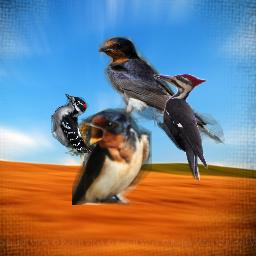Swallow: (98, 36, 226, 147), (72, 108, 152, 205)
Woodpecker: (152, 74, 208, 182), (51, 94, 101, 153)
